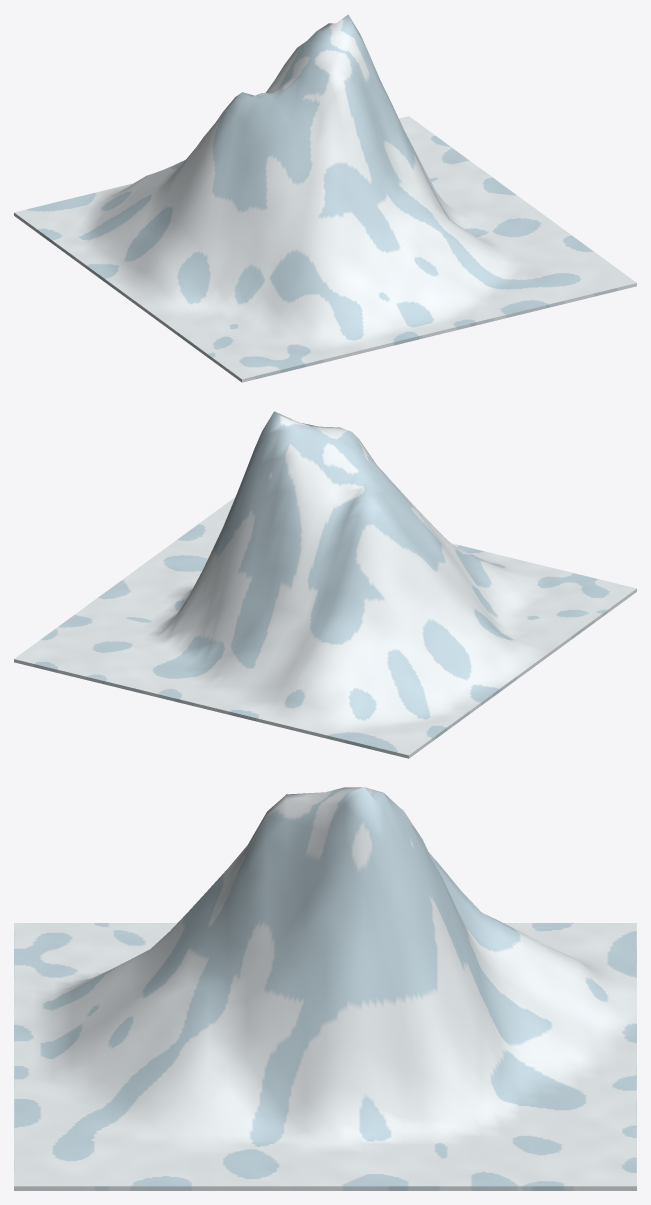
Rendered from Snow_Mountains_11.obj.
The picture shows the model from 3 angles, top to bottom: view 1: azimuth 30°, elevation 25°; view 2: azimuth 150°, elevation 25°; view 3: azimuth 270°, elevation 25°; orthographic projection. The views are drawn at different scales.
Size of the model in its own units: 10 by 5.26 by 10.
Materials: 1 (1 with a texture image).
